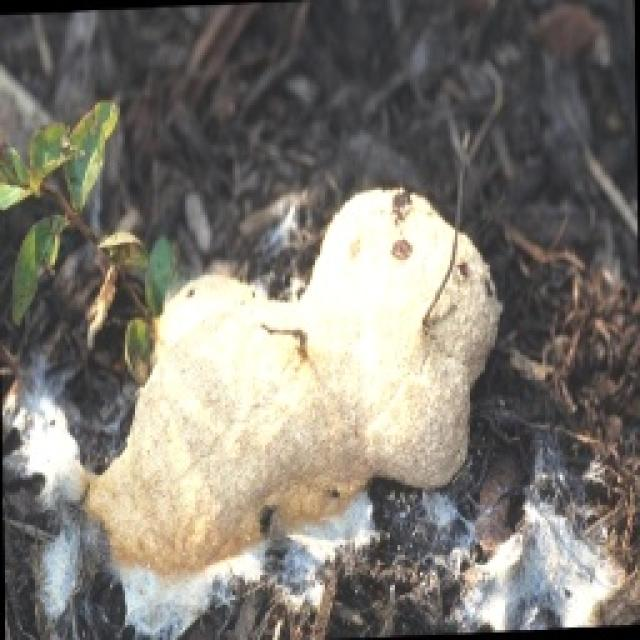Dog_vomit_slime_mold: (3, 180, 505, 638)
